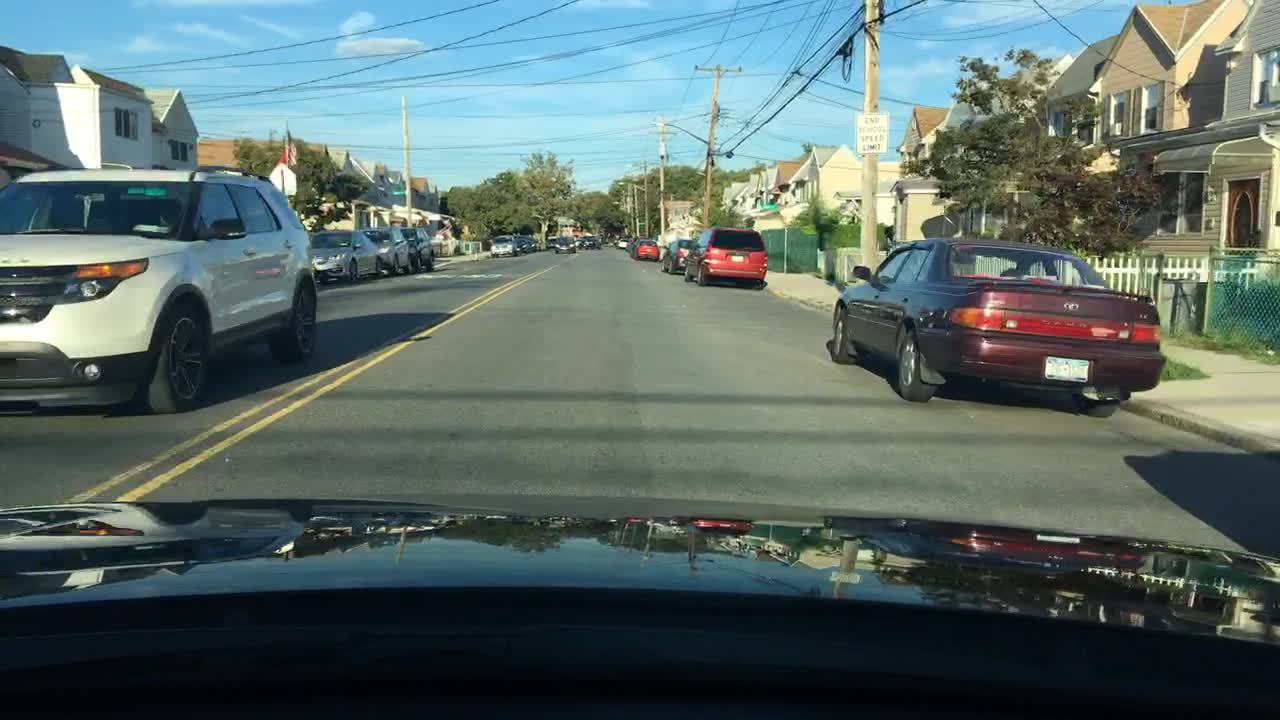car: (0, 167, 317, 411), (829, 235, 1163, 416), (683, 226, 766, 286), (311, 229, 379, 280), (361, 224, 409, 277), (400, 224, 435, 272), (661, 239, 692, 272), (489, 235, 516, 259), (631, 238, 658, 260), (622, 233, 646, 254), (513, 235, 532, 254), (556, 236, 576, 254), (583, 235, 600, 251), (655, 242, 667, 260), (544, 233, 556, 248), (592, 233, 604, 245), (529, 238, 540, 251), (571, 236, 582, 248), (615, 238, 628, 248), (603, 239, 616, 247)
traffic sign: (857, 113, 886, 151), (269, 161, 296, 194), (391, 188, 406, 197)
